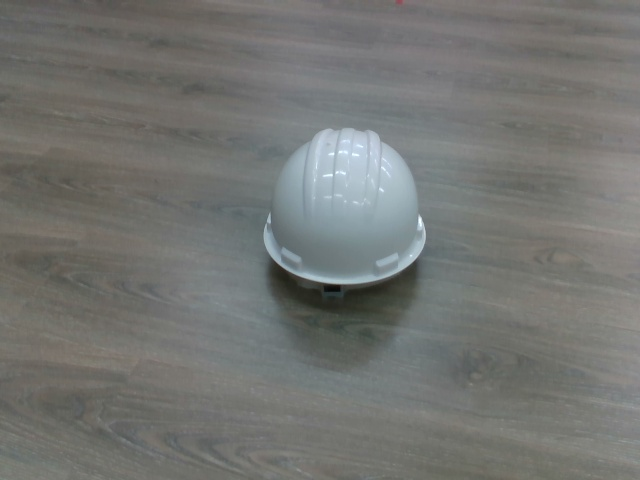helmet: (258, 122, 433, 305)
